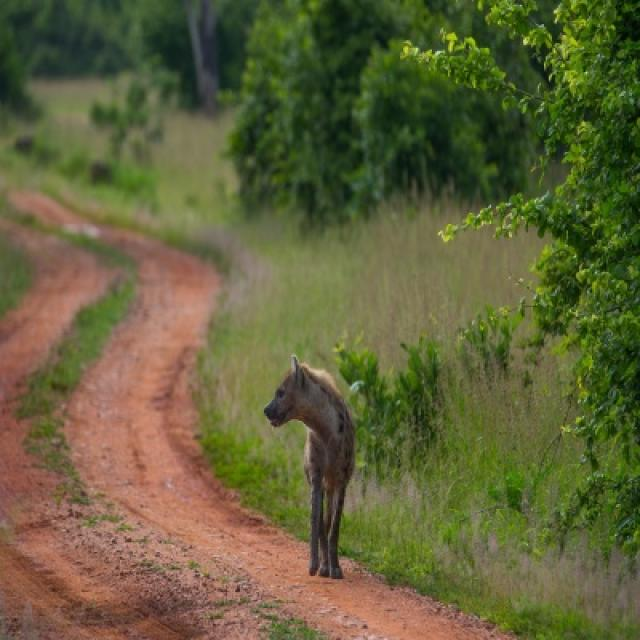hyena: (262, 360, 355, 582)
